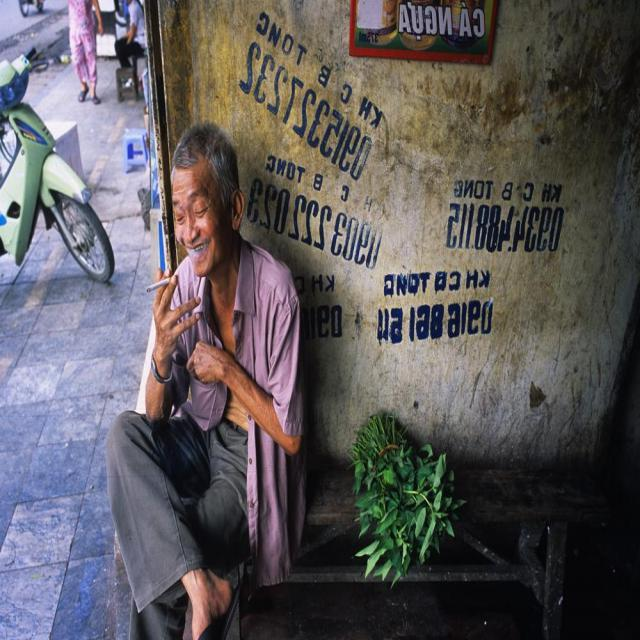cigarette: (140, 264, 179, 300)
